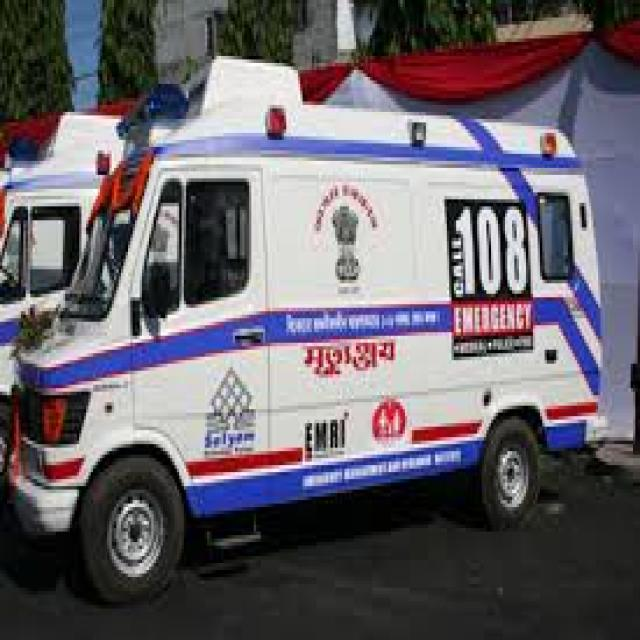Ambulance: (35, 91, 617, 584)
